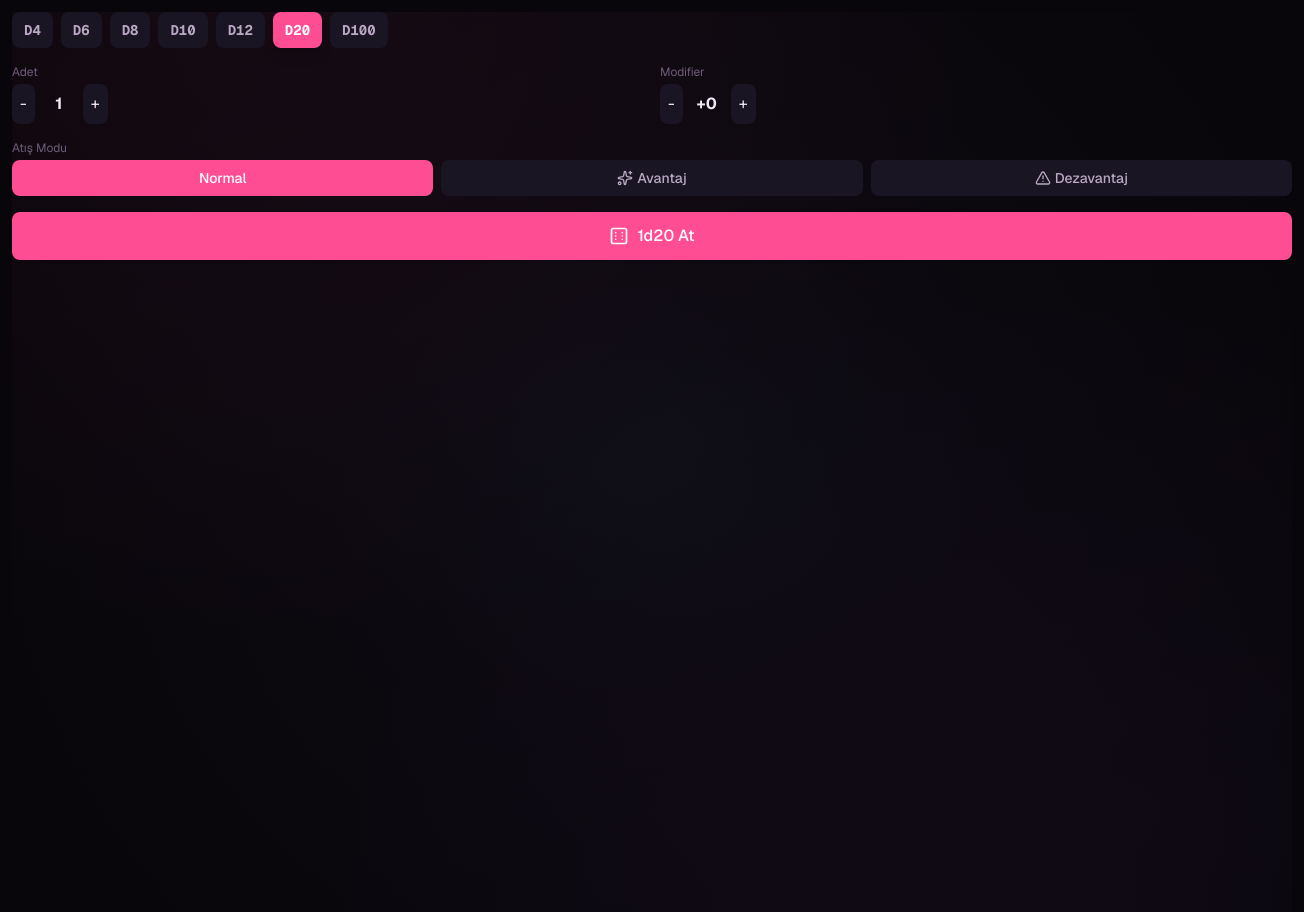
it: DiceRoller › hides advantage/disadvantage when count > 1 for d20
This screenshot has width=1304, height=912.
What coordinates should you click on to do the following:
click the button "+" below "Adet"
I would click on:
 (95, 104)
Its box is top-left (83, 84), bottom-right (108, 124).
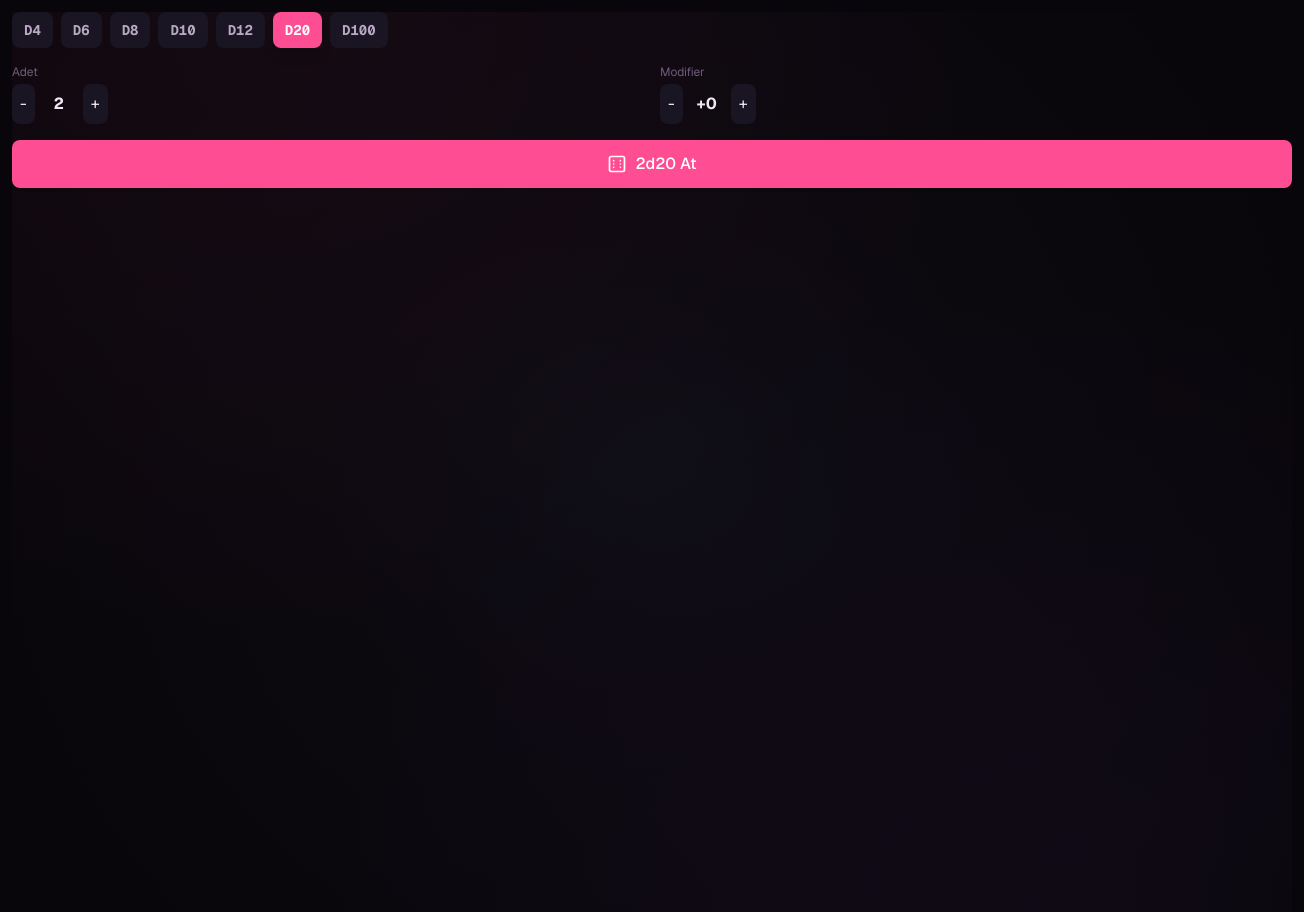
Result: the button "Avantaj" is gone
